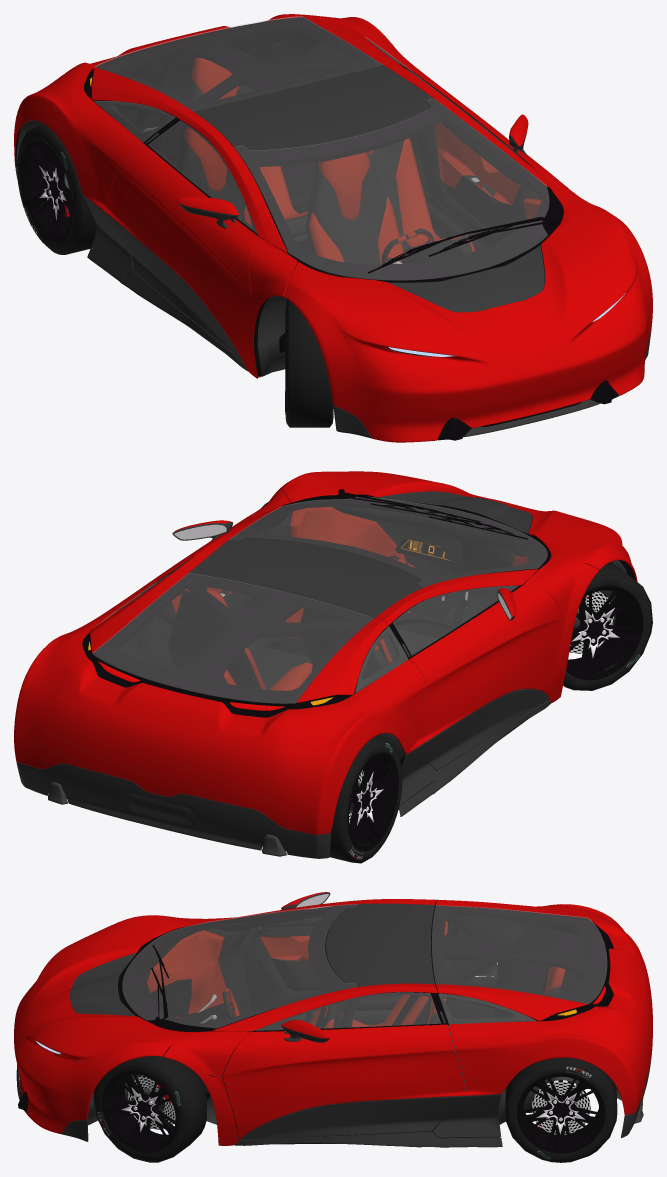
The model's file is aubade.glb.
The picture shows the model from 3 angles, top to bottom: view 1: azimuth 30°, elevation 25°; view 2: azimuth 150°, elevation 25°; view 3: azimuth 270°, elevation 25°; orthographic projection. The views are drawn at different scales.
Parts seen in each view (by area): view 1: BodyHood, BodyWindshield, BodyRearwindow, BodyDoorRColor1, BodyRearPanelsColor1, BodyRoofPanel, BodyWindshieldGasket, InteriorSeatsColor1, InteriorSeatsColor2, BodyPillars, Tyre (×2), InteriorPillar (+20 smaller); view 2: BodyRearPanelsColor1, BodyRearwindow, BodyWindshield, BodyPanelsColor2, BodyDoorRColor1, BodyRoofPanel, BodyHood, InteriorRearHatch, BodyPillars, InteriorPillar, InteriorDashMid, BodyWindshieldGasket (+20 smaller); view 3: BodyRearPanelsColor1, BodyWindshield, BodyDoorLColor1, BodyHood, BodyRearwindow, Tyre (×2), BodyRoofPanel, BodyPillars, BodyWindshieldGasket, BodyDoorLColor2, BodyPanelsColor2, InteriorRearHatch (+24 smaller).
Part boxes in pixels (<box>): BodyHood: <box>283,198,652,442</box>; BodyWindshield: <box>234,98,549,280</box>; BodyRearwindow: <box>95,16,382,110</box>; BodyDoorRColor1: <box>104,143,257,362</box>; BodyRearPanelsColor1: <box>14,14,428,210</box>; BodyRoofPanel: <box>193,65,432,150</box>; BodyWindshieldGasket: <box>234,99,563,282</box>; InteriorSeatsColor1: <box>185,57,475,264</box>; InteriorSeatsColor2: <box>180,78,472,264</box>; BodyPillars: <box>176,61,598,378</box>; Tyre (×2): <box>17,124,333,427</box>; InteriorPillar: <box>158,37,434,168</box>; BodyRearPanelsColor1: <box>14,569,425,834</box>; BodyRearwindow: <box>92,573,373,703</box>; BodyWindshield: <box>229,497,547,587</box>; BodyPanelsColor2: <box>16,700,551,858</box>; BodyDoorRColor1: <box>409,585,562,742</box>; BodyRoofPanel: <box>189,537,422,617</box>; BodyHood: <box>278,471,637,581</box>; InteriorRearHatch: <box>93,573,385,707</box>; BodyPillars: <box>175,489,599,702</box>; InteriorPillar: <box>174,574,417,682</box>; InteriorDashMid: <box>331,502,525,622</box>; BodyWindshieldGasket: <box>230,497,550,587</box>; BodyRearPanelsColor1: <box>436,899,652,1115</box>; BodyWindshield: <box>122,904,357,1028</box>; BodyDoorLColor1: <box>222,1024,467,1139</box>; BodyHood: <box>14,915,196,1133</box>; BodyRearwindow: <box>432,905,606,1003</box>; Tyre (×2): <box>93,1054,617,1162</box>; BodyRoofPanel: <box>326,903,434,986</box>; BodyPillars: <box>163,899,437,1145</box>; BodyWindshieldGasket: <box>118,905,357,1032</box>; BodyDoorLColor2: <box>240,1096,467,1140</box>; BodyPanelsColor2: <box>16,1050,652,1147</box>; InteriorRearHatch: <box>431,905,606,1020</box>.
Size of the model in its own units: 2.54 by 1.15 by 4.36.
22 materials, 5 textured.
